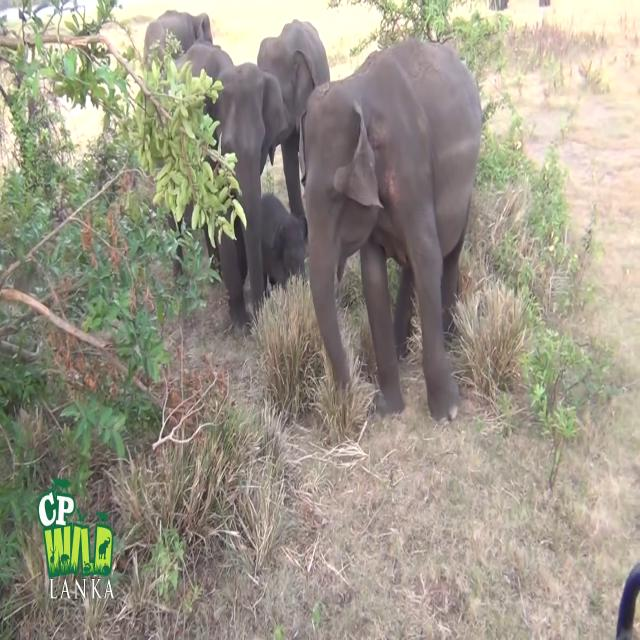Elephant: (298, 37, 483, 423), (164, 42, 289, 334), (257, 18, 330, 229), (142, 8, 213, 81)
